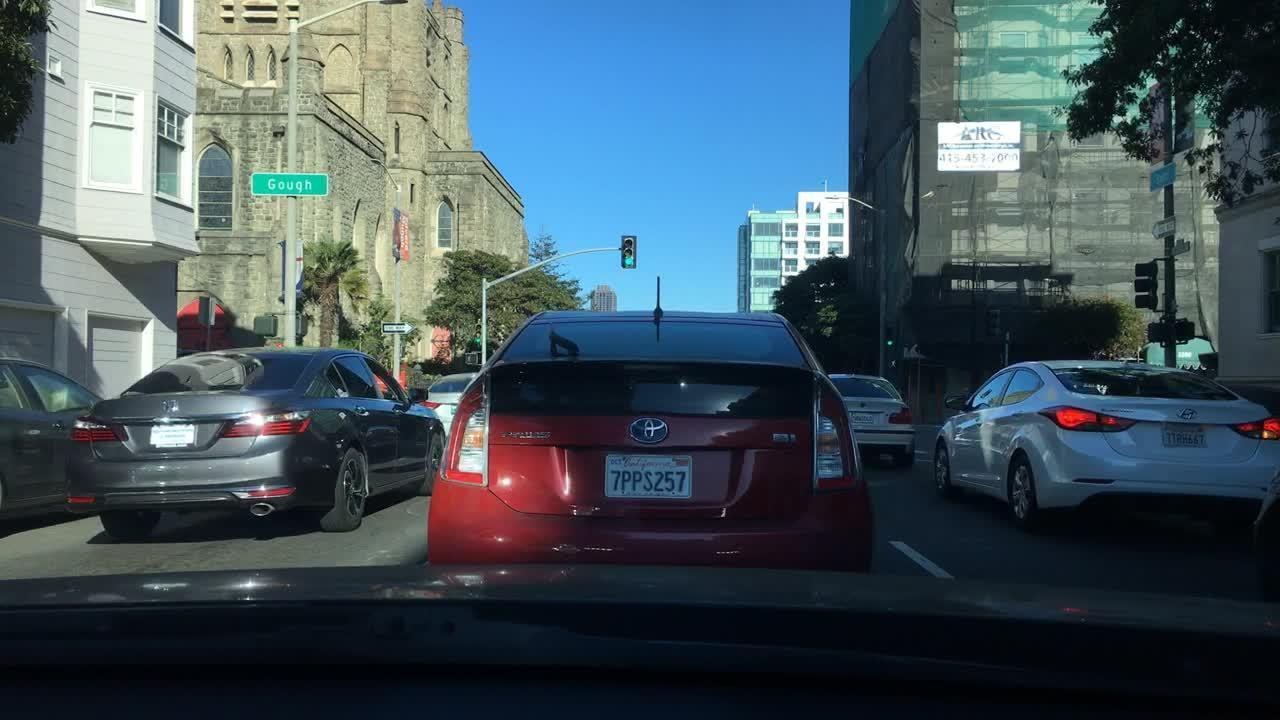Honda: (159, 396, 183, 418)
Hyundai: (1166, 403, 1205, 427)
Toyota: (620, 406, 672, 451)
